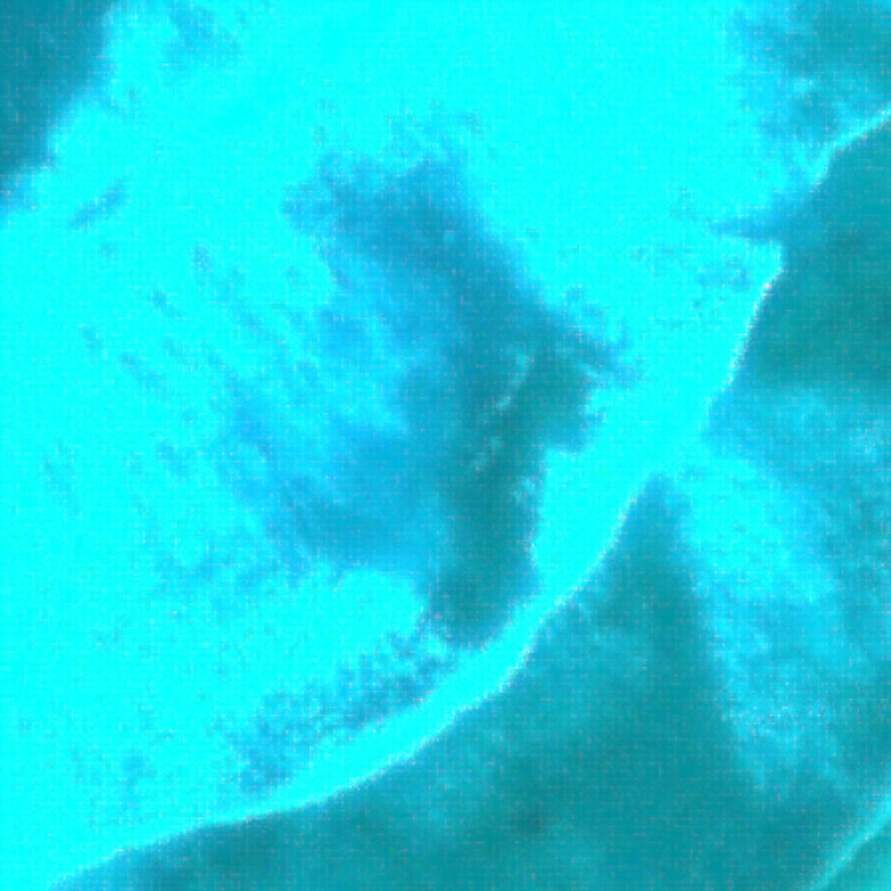rip_current: (307, 123, 614, 672)
